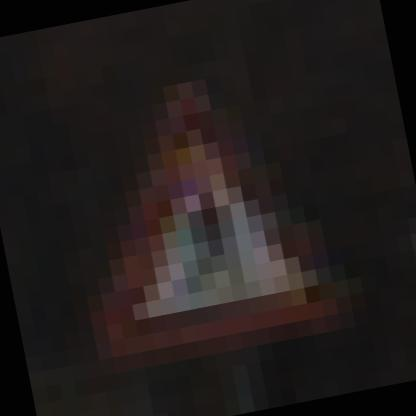crosswalk: (16, 48, 378, 398)
